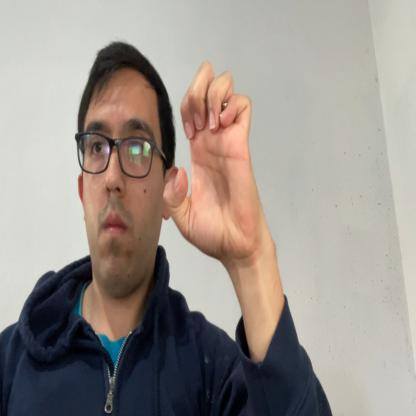E: (164, 59, 260, 262)
